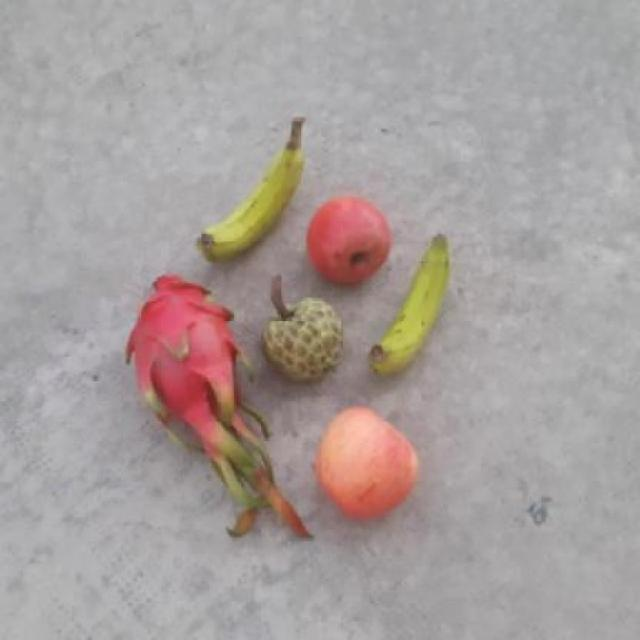apple: (298, 397, 422, 521), (308, 179, 392, 292)
banana: (358, 230, 460, 401), (192, 131, 310, 271)
dragon fruit: (118, 271, 267, 429)
sugar apple: (261, 293, 347, 384)
